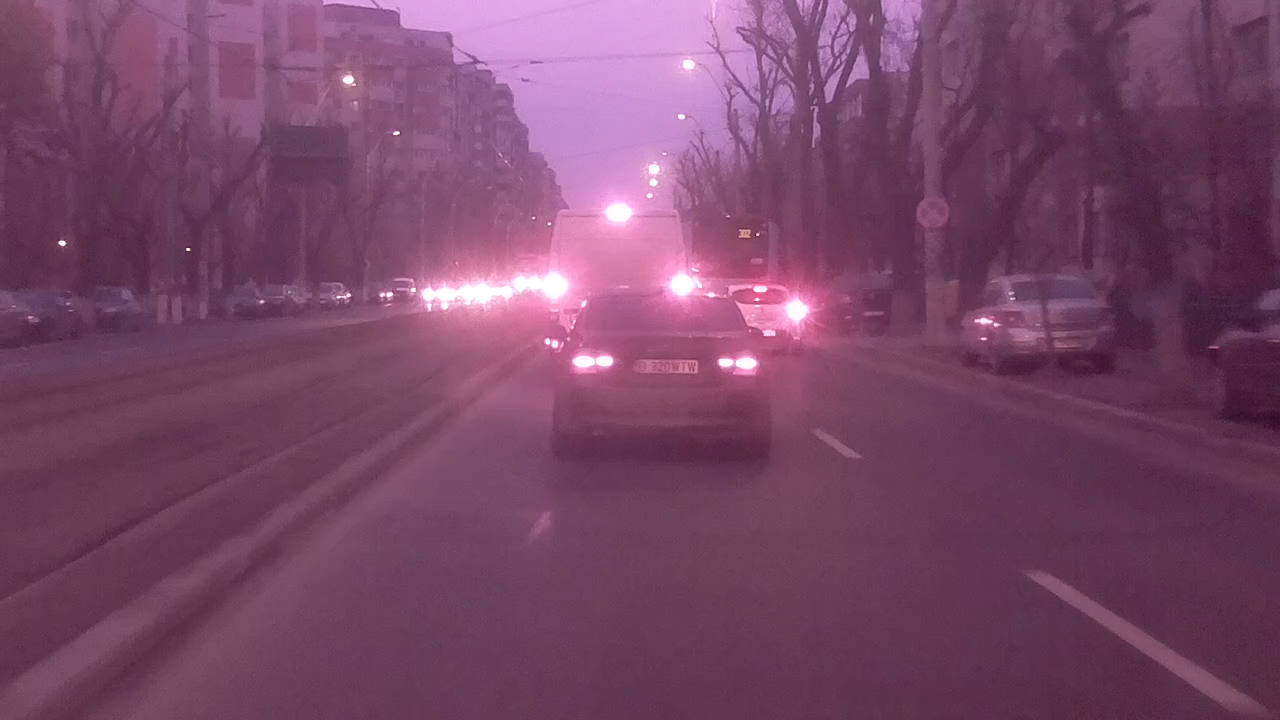license-plate: (626, 357, 703, 376)
